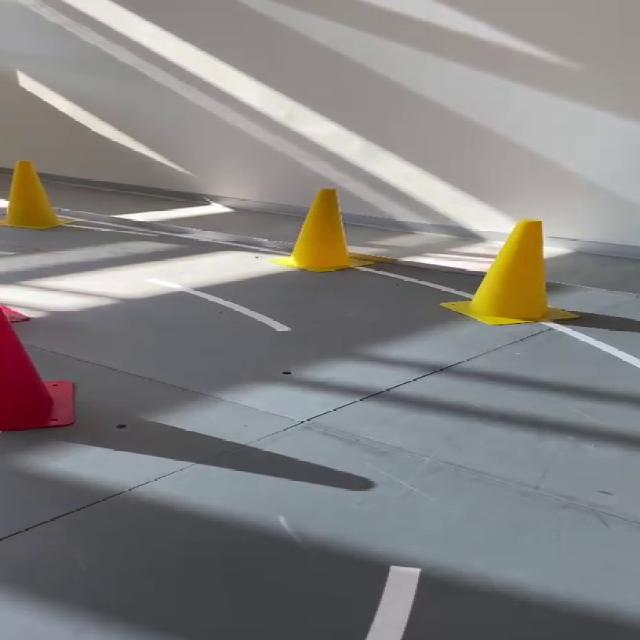Cone-red: (0, 306, 76, 432)
Cones-yellow: (441, 219, 578, 325), (270, 188, 364, 272), (0, 161, 62, 228)
